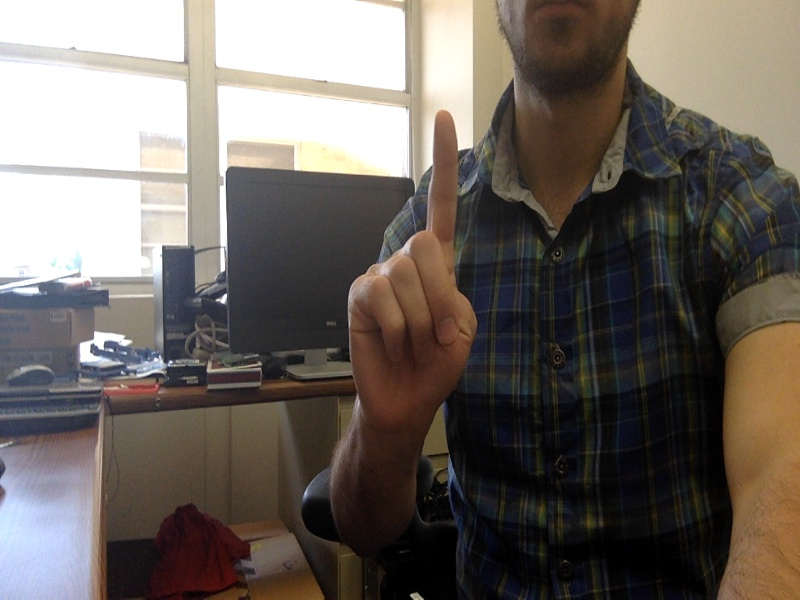1-hand: (347, 109, 478, 415)
